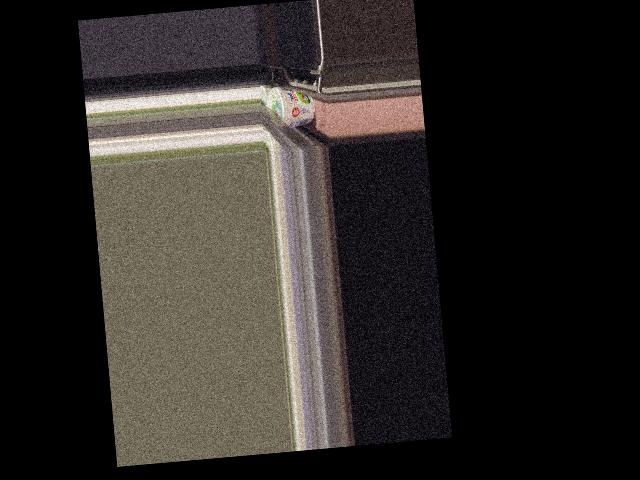cotage: (266, 86, 315, 130)
